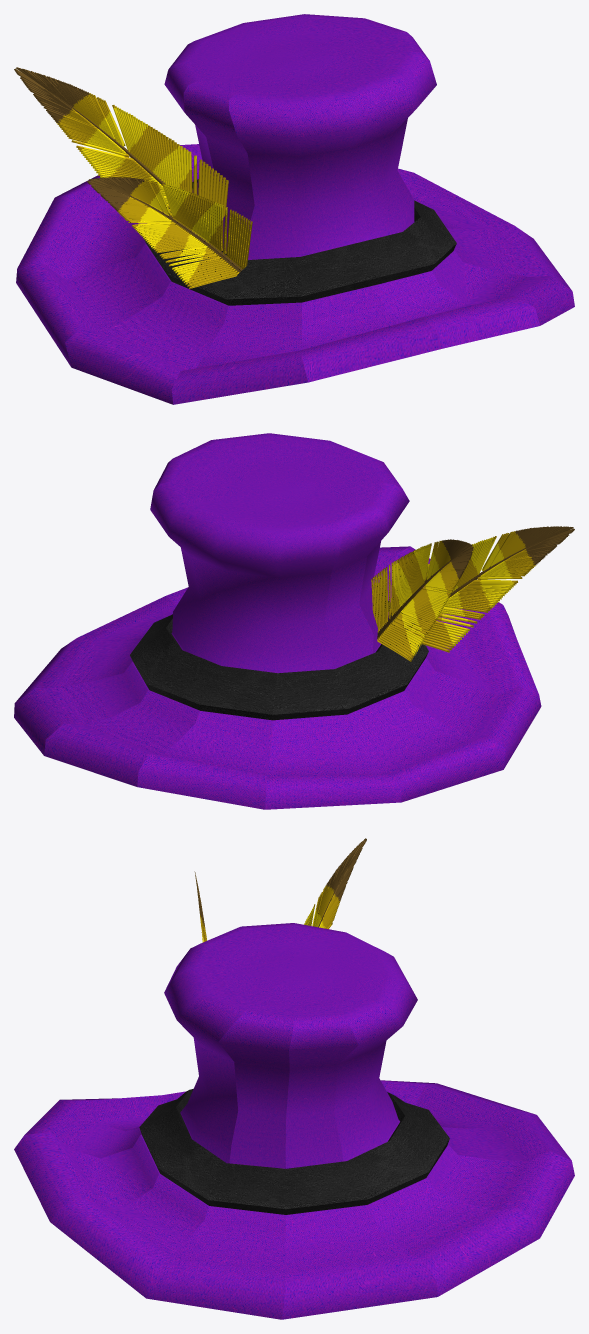
The model's file is Pimphat.glb.
3 views of the same model, one above another, from view 1: azimuth 30°, elevation 25°; view 2: azimuth 150°, elevation 25°; view 3: azimuth 270°, elevation 25° (orthographic). The views are drawn at different scales.
Parts seen in each view (by area): view 1: DIVA2:SOMBRERO:SOMBRERO:SOMBRERO:pCylinder1, DIVA2:SOMBRERO:SOMBRERO:SOMBRERO:prefix_featherExotic1Leaf, DIVA2:SOMBRERO:SOMBRERO:SOMBRERO:featherExotic1Leaf, DIVA2:SOMBRERO:SOMBRERO:SOMBRERO:featherExotic1Main; view 2: DIVA2:SOMBRERO:SOMBRERO:SOMBRERO:pCylinder1, DIVA2:SOMBRERO:SOMBRERO:SOMBRERO:prefix_featherExotic1Leaf, DIVA2:SOMBRERO:SOMBRERO:SOMBRERO:featherExotic1Leaf; view 3: DIVA2:SOMBRERO:SOMBRERO:SOMBRERO:pCylinder1, DIVA2:SOMBRERO:SOMBRERO:SOMBRERO:prefix_featherExotic1Leaf.
Part boxes in pixels (<box>): DIVA2:SOMBRERO:SOMBRERO:SOMBRERO:pCylinder1: <box>16,14,574,404</box>; DIVA2:SOMBRERO:SOMBRERO:SOMBRERO:prefix_featherExotic1Leaf: <box>14,67,228,224</box>; DIVA2:SOMBRERO:SOMBRERO:SOMBRERO:featherExotic1Leaf: <box>87,177,252,289</box>; DIVA2:SOMBRERO:SOMBRERO:SOMBRERO:featherExotic1Main: <box>112,189,242,272</box>; DIVA2:SOMBRERO:SOMBRERO:SOMBRERO:pCylinder1: <box>14,433,541,809</box>; DIVA2:SOMBRERO:SOMBRERO:SOMBRERO:prefix_featherExotic1Leaf: <box>371,539,473,661</box>; DIVA2:SOMBRERO:SOMBRERO:SOMBRERO:featherExotic1Leaf: <box>398,526,574,652</box>; DIVA2:SOMBRERO:SOMBRERO:SOMBRERO:pCylinder1: <box>14,923,574,1319</box>; DIVA2:SOMBRERO:SOMBRERO:SOMBRERO:prefix_featherExotic1Leaf: <box>304,838,366,929</box>.
Size of the model in its own units: 0.1872 by 0.0982 by 0.1922.
Materials: 6 (2 with a texture image).
